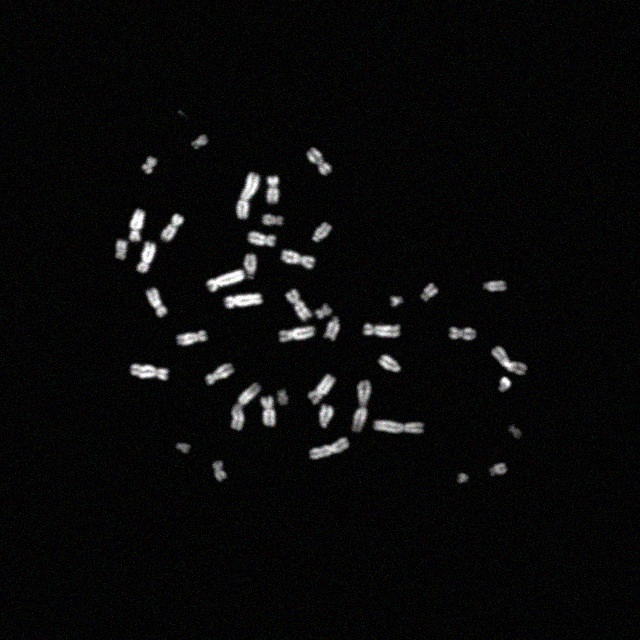chromosome: (229, 383, 261, 431), (237, 170, 261, 222), (491, 346, 527, 376), (306, 372, 336, 406), (352, 380, 370, 434), (309, 436, 349, 459), (374, 418, 424, 436), (286, 288, 312, 322), (128, 361, 170, 382), (206, 269, 246, 291), (306, 146, 332, 176), (144, 286, 168, 318), (281, 248, 315, 270), (205, 361, 235, 385), (225, 291, 263, 309), (136, 240, 156, 274), (364, 321, 401, 339), (162, 212, 184, 242), (279, 324, 315, 342), (176, 329, 208, 346), (248, 229, 276, 247), (449, 324, 476, 342), (260, 397, 276, 427), (130, 208, 144, 242), (378, 352, 400, 373), (266, 173, 280, 205), (324, 313, 340, 341), (312, 221, 332, 243), (243, 253, 257, 280), (420, 282, 438, 302), (212, 458, 226, 482), (320, 406, 334, 429), (488, 462, 508, 478), (262, 212, 284, 226), (190, 134, 208, 150), (482, 281, 508, 291), (142, 156, 156, 174), (114, 240, 128, 258), (314, 304, 332, 318), (277, 387, 289, 407), (497, 376, 511, 392), (508, 423, 522, 439), (175, 442, 191, 456), (390, 294, 404, 308), (456, 471, 469, 485)
